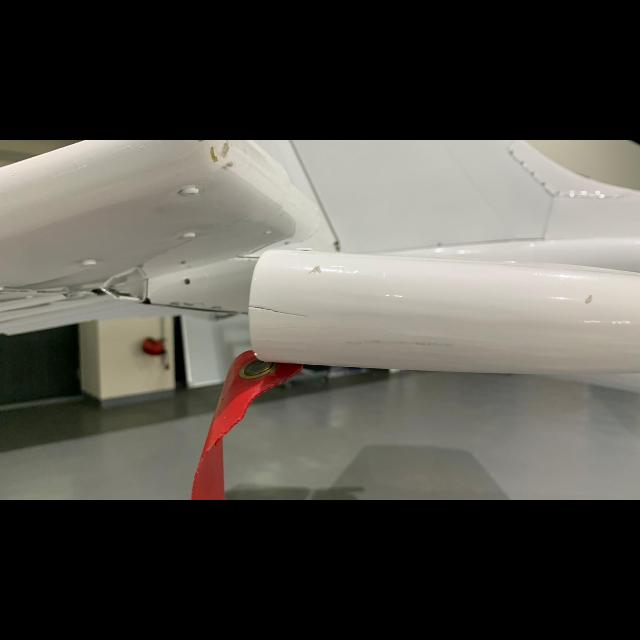Missing Fastener: (180, 276, 193, 288)
